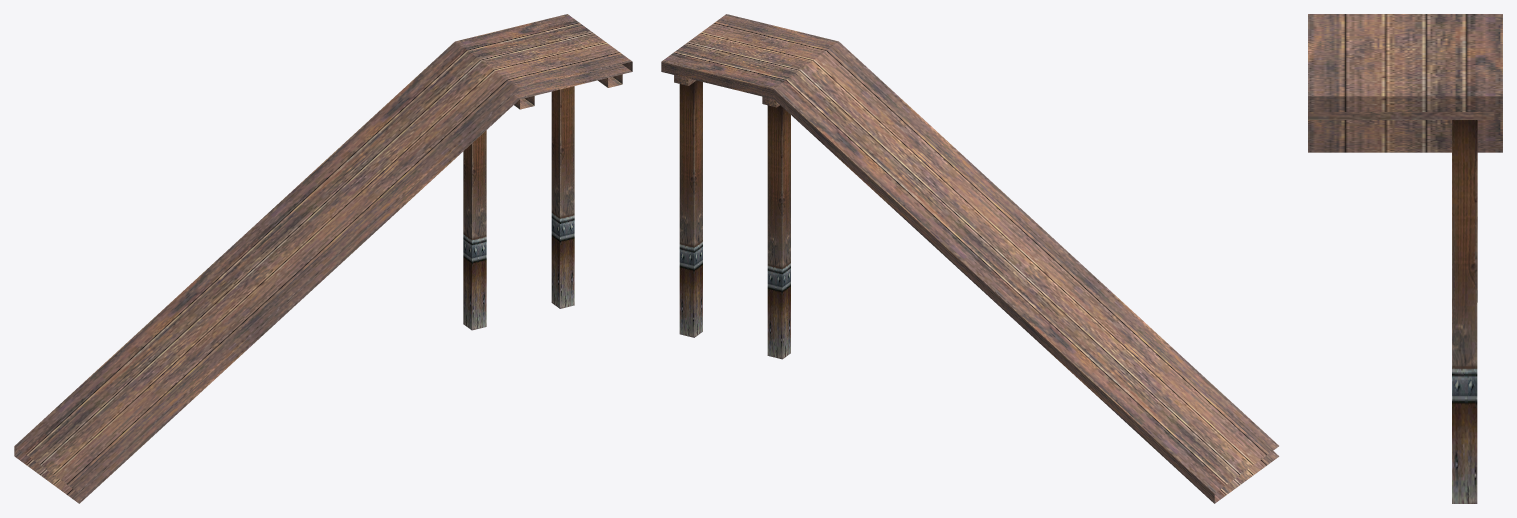
File: tn4_brige01.glb
3 views of the same model, side by side, from view 1: azimuth 30°, elevation 25°; view 2: azimuth 150°, elevation 25°; view 3: azimuth 270°, elevation 25° (orthographic). The views are drawn at different scales.
Visible parts, largest first — view 1: tn4_brige01; view 2: tn4_brige01; view 3: tn4_brige01.
Part boxes in pixels (x1,y1,x2,y2): tn4_brige01: (14,14,632,503); tn4_brige01: (661,14,1279,503); tn4_brige01: (1308,14,1502,503).
Size of the model in its own units: 11.3 by 6 by 2.3.
Materials: 2 (2 with a texture image).
